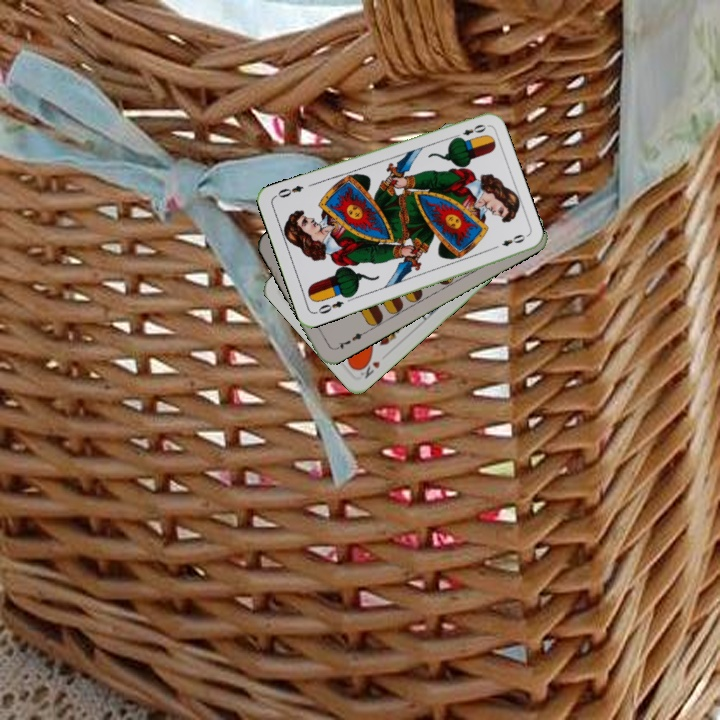E7: (331, 328, 368, 353)
EO: (450, 120, 488, 142), (314, 297, 346, 317)
HK: (360, 357, 383, 381)
